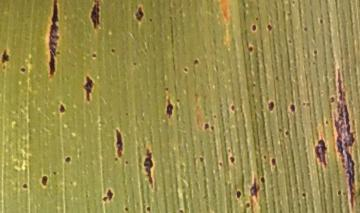tarspot: (333, 61, 358, 209), (43, 1, 62, 77), (141, 146, 157, 192), (311, 134, 330, 172), (110, 124, 126, 161), (87, 1, 105, 33), (80, 71, 96, 104), (130, 2, 147, 24), (98, 186, 115, 204), (164, 100, 175, 120), (249, 179, 260, 199), (1, 47, 12, 67), (265, 96, 277, 113), (39, 172, 49, 188), (57, 100, 66, 115), (227, 154, 238, 166), (244, 44, 257, 54), (288, 101, 297, 115), (234, 188, 243, 202), (62, 154, 72, 166), (201, 120, 210, 133), (265, 22, 274, 34), (191, 56, 201, 66), (299, 190, 309, 200), (269, 156, 277, 168), (208, 121, 216, 133), (18, 65, 27, 75), (258, 175, 267, 185), (144, 202, 152, 213), (229, 102, 237, 113), (89, 51, 98, 60), (250, 23, 258, 33), (22, 180, 28, 192), (123, 205, 131, 213)
